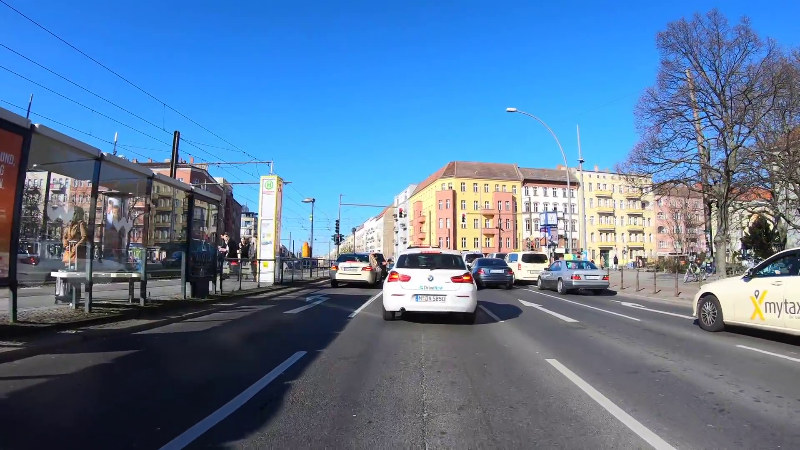Plate: (413, 293, 448, 303), (341, 265, 361, 272), (488, 268, 504, 274), (584, 273, 600, 279), (528, 269, 541, 274)
